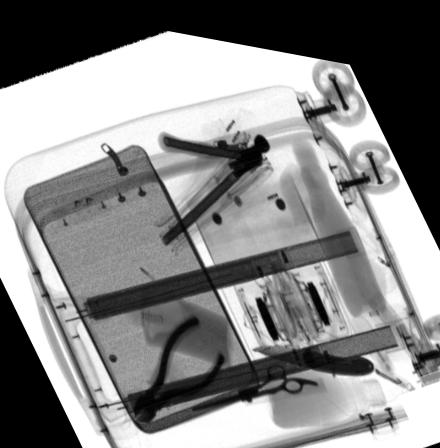Hammer: (156, 122, 269, 170)
Knife: (250, 332, 375, 362)
Pliers: (129, 305, 228, 418)
Scissors: (188, 352, 319, 404)
